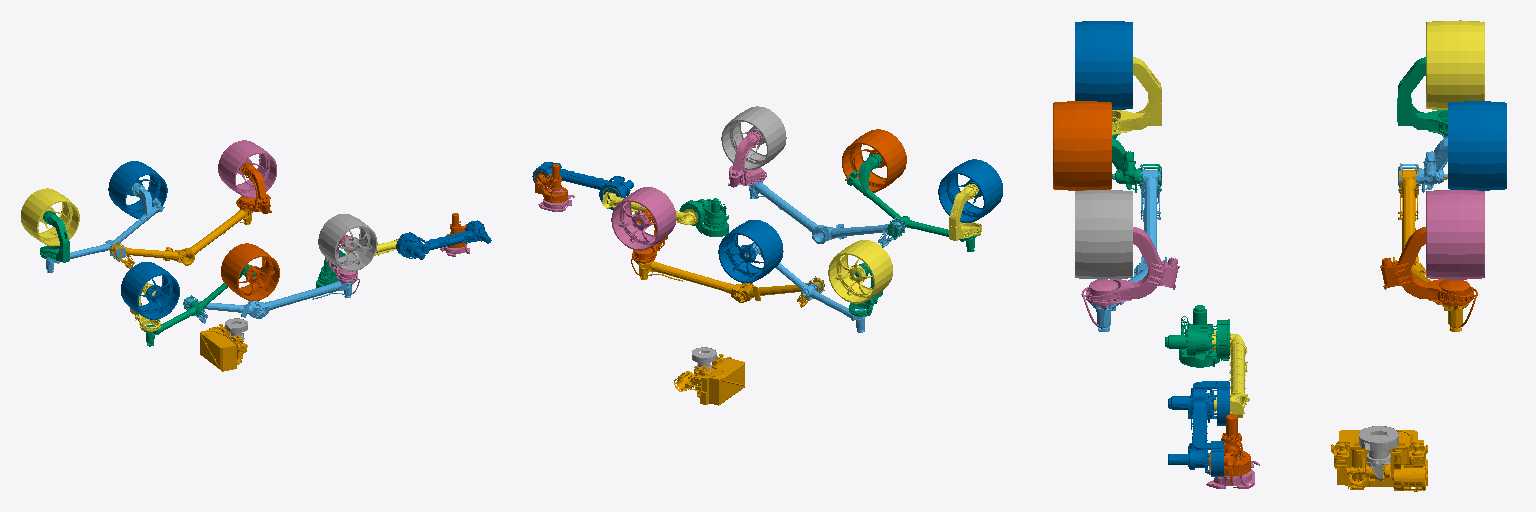
URDF robot description (Perseverance):
<?xml version="1.0" ?>
<!-- This file was generated automatically. [2025_06_02_09_32_47] -->
<!-- [Tool url: [email redacted]:CR/rst.git, branch: dev/working, commit_hash: e5cacbdc, commit_time: 2025-05-23 16:18:02 -0700] -->

<robot name="Perseverance">
	
	<link name="Body_Chassis">
		<inertial>
			<origin xyz="-0.09838567108 0.07208482438 -1.042635484" rpy="0 -0 0"/>
			<mass value="683.3519"/>
			<inertia ixx="128.4" ixy="300" ixz="89.22" iyy="820.4" iyz="-30" izz="900"/>
		</inertial>
		<visual name="VisGeom_CHASSIS">
			<origin xyz="0.09002 0 -1.13338" rpy="0 -0 0"/>
			<geometry>
				<mesh filename="./meshes/CHASSIS.obj" scale="1 1 1"/>
			</geometry>
		</visual>
	</link>
	<link name="Body_RockerLeft">
		<inertial>
			<origin xyz="-0.05083 -0.044965 0.049617" rpy="0 -0 0"/>
			<mass value="20.8469"/>
			<inertia ixx="0.2" ixy="0.2" ixz="0.2" iyy="36.0" iyz="0.2" izz="4.0"/>
		</inertial>
		<visual name="VisGeom_Left_Rocker">
			<origin xyz="-0.214 0.79959 -0.2405" rpy="0 -0 0"/>
			<geometry>
				<mesh filename="./meshes/Left_Rocker.obj" scale="1 1 1"/>
			</geometry>
		</visual>
	</link>
	<link name="Body_BogieLeft">
		<inertial>
			<origin xyz="0.199373 -0.09106 0.193321" rpy="0 -0 0"/>
			<mass value="17.1153"/>
			<inertia ixx="1.5" ixy="0" ixz="0" iyy="5.0" iyz="0" izz="1.5"/>
		</inertial>
		<visual name="VisGeom_Left_Bogie">
			<origin xyz="0.54 0.91959 -0.4705" rpy="0 -0 0"/>
			<geometry>
				<mesh filename="./meshes/Left_Bogie.obj" scale="1 1 1"/>
			</geometry>
		</visual>
	</link>
	<link name="Body_SteerLeftRear">
		<inertial>
			<origin xyz="-0.0004 0.0465 -0.2287" rpy="0 -0 0"/>
			<mass value="20.404"/>
			<inertia ixx="1.5" ixy="0" ixz="0" iyy="1.5" iyz="0" izz="1.5"/>
		</inertial>
		<visual name="VisGeom_Steer_LeftRear">
			<origin xyz="1.165 1.0625 -0.8705" rpy="0 -0 0"/>
			<geometry>
				<mesh filename="./meshes/Steer_LeftRear.obj" scale="1 1 1"/>
			</geometry>
		</visual>
	</link>
	<link name="Body_WheelLeftRear">
		<inertial>
			<origin xyz="0 -0.02695 3e-06" rpy="0 -0 0"/>
			<mass value="9.1239"/>
			<inertia ixx="1.5" ixy="0" ixz="0" iyy="0.5" iyz="0" izz="1.5"/>
		</inertial>
		<visual name="VisGeom_Wheel_LeftRear">
			<origin xyz="1.165 1.0625 -0.8705" rpy="0 -0 0"/>
			<geometry>
				<mesh filename="./meshes/Wheel_LeftRear.obj" scale="1 1 1"/>
			</geometry>
		</visual>
		<collision group="other">
			<origin xyz="1.165 1.0625 -0.8705" rpy="0 -0 0"/>
		   <geometry>
				<mesh filename="./meshes/Wheel_LeftRear.obj" scale="1 1 1"/>
		   </geometry>
		</collision>
	</link>
	<link name="Body_WheelLeftMiddle">
		<inertial>
			<origin xyz="2e-05 -0.02687 0" rpy="0 -0 0"/>
			<mass value="9.1239"/>
			<inertia ixx="1.5" ixy="0" ixz="0" iyy="0.5" iyz="0" izz="1.5"/>
		</inertial>
		<visual name="VisGeom_Wheel_LeftMiddle">
			<origin xyz="0.09002 1.1845 -0.8705" rpy="0 -0 0"/>
			<geometry>
				<mesh filename="./meshes/Wheel_LeftMiddle.obj" scale="1 1 1"/>
			</geometry>
		</visual>
		<collision group="other">
			<origin xyz="0.09002 1.1845 -0.8705" rpy="0 -0 0"/>
		   <geometry>
				<mesh filename="./meshes/Wheel_LeftMiddle.obj" scale="1 1 1"/>
		   </geometry>
		</collision>
	</link>
	<link name="Body_SteerLeftFront">
		<inertial>
			<origin xyz="-0.0004 0.0418 -0.2292" rpy="0 -0 0"/>
			<mass value="20.2884"/>
			<inertia ixx="1.5" ixy="0" ixz="0" iyy="1.5" iyz="0" izz="1.5"/>
		</inertial>
		<visual name="VisGeom_Steer_LeftFront">
			<origin xyz="-1.095 1.0625 -0.8705" rpy="0 -0 0"/>
			<geometry>
				<mesh filename="./meshes/Steer_LeftFront.obj" scale="1 1 1"/>
			</geometry>
		</visual>
	</link>
	<link name="Body_WheelLeftFront">
		<inertial>
			<origin xyz="0 -0.02695 4e-06" rpy="0 -0 0"/>
			<mass value="9.1239"/>
			<inertia ixx="1.5" ixy="0" ixz="0" iyy="0.5" iyz="0" izz="1.5"/>
		</inertial>
		<visual name="VisGeom_Wheel_LeftFront">
			<origin xyz="-1.095 1.0625 -0.8705" rpy="0 -0 0"/>
			<geometry>
				<mesh filename="./meshes/Wheel_LeftFront.obj" scale="1 1 1"/>
			</geometry>
		</visual>
		<collision group="other">
			<origin xyz="-1.095 1.0625 -0.8705" rpy="0 -0 0"/>
		   <geometry>
				<mesh filename="./meshes/Wheel_LeftFront.obj" scale="1 1 1"/>
		   </geometry>
		</collision>

	</link>
	<link name="Body_RockerRight">
		<inertial>
			<origin xyz="-0.05083 0.044965 0.049617" rpy="0 -0 0"/>
			<mass value="20.8469"/>
			<inertia ixx="1.5" ixy="0" ixz="0" iyy="36" iyz="0" izz="1.5"/>
		</inertial>
		<visual name="VisGeom_Right_Rocker">
			<origin xyz="-0.214 -0.79959 -0.2405" rpy="0 -0 0"/>
			<geometry>
				<mesh filename="./meshes/Right_Rocker.obj" scale="1 1 1"/>
			</geometry>
		</visual>
	</link>
	<link name="Body_BogieRight">
		<inertial>
			<origin xyz="0.199373 0.09106 0.193321" rpy="0 -0 0"/>
			<mass value="17.1153"/>
			<inertia ixx="1.5" ixy="0" ixz="0" iyy="5.0" iyz="0" izz="1.5"/>
		</inertial>
		<visual name="VisGeom_Right_Bogie">
			<origin xyz="0.54 -0.91959 -0.4705" rpy="0 -0 0"/>
			<geometry>
				<mesh filename="./meshes/Right_Bogie.obj" scale="1 1 1"/>
			</geometry>
		</visual>
	</link>
	<link name="Body_SteerRightRear">
		<inertial>
			<origin xyz="-0.0004 -0.0465 -0.2287" rpy="0 -0 0"/>
			<mass value="20.404"/>
			<inertia ixx="1.5" ixy="0" ixz="0" iyy="1.5" iyz="0" izz="1.5"/>
		</inertial>
		<visual name="VisGeom_Steer_RightRear">
			<origin xyz="1.165 -1.0625 -0.8705" rpy="0 -0 0"/>
			<geometry>
				<mesh filename="./meshes/Steer_RightRear.obj" scale="1 1 1"/>
			</geometry>
		</visual>
	</link>
	<link name="Body_WheelRightRear">
		<inertial>
			<origin xyz="0 0.02695 3e-06" rpy="0 -0 0"/>
			<mass value="9.1239"/>
			<inertia ixx="1.5" ixy="0" ixz="0" iyy="0.5" iyz="0" izz="1.5"/>
		</inertial>
		<visual name="VisGeom_Wheel_RightRear">
			<origin xyz="1.165 -1.0625 -0.8705" rpy="0 -0 0"/>
			<geometry>
				<mesh filename="./meshes/Wheel_RightRear.obj" scale="1 1 1"/>
			</geometry>
		</visual>

		<collision group="other">
			<origin xyz="1.165 -1.0625 -0.8705" rpy="0 -0 0"/>
			<geometry>
				<mesh filename="./meshes/Wheel_RightRear.obj" scale="1 1 1"/>
		    </geometry>
		</collision>
	</link>
	<link name="Body_WheelRightMiddle">
		<inertial>
			<origin xyz="2e-05 0.02687 0" rpy="0 -0 0"/>
			<mass value="9.1239"/>
			<inertia ixx="1.5" ixy="0" ixz="0" iyy="0.5" iyz="0" izz="1.5"/>
		</inertial>
		<visual name="VisGeom_Wheel_RightMiddle">
			<origin xyz="0.09002 -1.1845 -0.8705" rpy="0 -0 0"/>
			<geometry>
				<mesh filename="./meshes/Wheel_RightMiddle.obj" scale="1 1 1"/>
			</geometry>
		</visual>
		
		<collision group="other">
			<origin xyz="0.09002 -1.1845 -0.8705" rpy="0 -0 0"/>
		   <geometry>
				<mesh filename="./meshes/Wheel_RightMiddle.obj" scale="1 1 1"/>
	           </geometry>
	    </collision>
	</link>
	<link name="Body_SteerRightFront">
		<inertial>
			<origin xyz="-0.0004 -0.0418 -0.2292" rpy="0 -0 0"/>
			<mass value="20.2884"/>
			<inertia ixx="1.5" ixy="0" ixz="0" iyy="1.5" iyz="0" izz="1.5"/>
		</inertial>
		<visual name="VisGeom_Steer_RightFront">
			<origin xyz="-1.095 -1.0625 -0.8705" rpy="0 -0 0"/>
			<geometry>
				<mesh filename="./meshes/Steer_RightFront.obj" scale="1 1 1"/>
			</geometry>
		</visual>
	</link>
	<link name="Body_WheelRightFront">
		<inertial>
			<origin xyz="0 0.02695 4e-06" rpy="0 -0 0"/>
			<mass value="9.1239"/>
			<inertia ixx="1.5" ixy="0" ixz="0" iyy="0.5" iyz="0" izz="1.5"/>
		</inertial>
		<visual name="VisGeom_Wheel_RightFront">
			<origin xyz="-1.095 -1.0625 -0.8705" rpy="0 -0 0"/>
			<geometry>
				<mesh filename="./meshes/Wheel_RightFront.obj" scale="1 1 1"/>
			</geometry>
		</visual>


		<collision group="other">
			<origin xyz="-1.095 -1.0625 -0.8705" rpy="0 -0 0"/>
		   <geometry>
				<mesh filename="./meshes/Wheel_RightFront.obj" scale="1 1 1"/>
		    </geometry>
	       </collision>
	</link>
	<link name="Body_RSM_AZ">
		<inertial>
			<origin xyz="-0.714017 -0.559028 0.78589" rpy="0 -0 0"/>
			<mass value="0.5"/>
			<inertia ixx="1.5" ixy="0" ixz="0" iyy="1.5" iyz="0" izz="1.5"/>
		</inertial>
		<visual name="VisGeom_RSM">
			<origin xyz="-0.714017 -0.559028 0.78589" rpy="0 -0 0"/>
			<geometry>
				<mesh filename="./meshes/RSM.obj" scale="1 1 1"/>
			</geometry>
		</visual>
	</link>
	<link name="Body_RSM_EL">
		<inertial>
			<origin xyz="-0.714017 -0.559028 0.78589" rpy="0 -0 0"/>
			<mass value="0.5"/>
			<inertia ixx="1.5" ixy="0" ixz="0" iyy="1.5" iyz="0" izz="1.5"/>
		</inertial>
		<visual name="VisGeom_RSM_HEAD">
			<origin xyz="-0.714017 -0.559028 0.78589" rpy="0 -0 0"/>
			<geometry>
				<mesh filename="./meshes/RSM_Head.obj" scale="1 1 1"/>
			</geometry>
		</visual>
	</link>
	<link name="Body_RA_Base">
		<inertial>
			<origin xyz="1.06056 -0.438176 0.112866" rpy="0 -0 0"/>
			<mass value="15.901471"/>
			<inertia ixx="1.5" ixy="0" ixz="0" iyy="1.5" iyz="0" izz="1.5"/>
		</inertial>
	</link>
	<link name="Body_RA_Link1">
		<inertial>
			<origin xyz="0.09057 0.001004 -0.006629" rpy="0 -0 0"/>
			<mass value="18.99472"/>
			<inertia ixx="1.5" ixy="0" ixz="0" iyy="1.5" iyz="0" izz="1.5"/>
		</inertial>
		<visual name="VisGeom_Arm_LINK_1">
			<origin xyz="-1.1756 0.4515 -0.3116" rpy="0 -0 0"/>
			<geometry>
				<mesh filename="./meshes/Arm_LINK_1.obj" scale="1 1 1"/>
			</geometry>
		</visual>
	</link>
	<link name="Body_RA_Link2">
		<inertial>
			<origin xyz="0.43094 0.130787 0" rpy="0 -0 0"/>
			<mass value="10.171646"/>
			<inertia ixx="1.0" ixy="0" ixz="0" iyy="1.0" iyz="0" izz="1.0"/>
		</inertial>
		<visual name="VisGeom_Arm_LINK_2">
			<origin xyz="-1.3416 0.4515 -0.3116" rpy="0 -0 0"/>
			<geometry>
				<mesh filename="./meshes/Arm_LINK_2.obj" scale="1 1 1"/>
			</geometry>
		</visual>
	</link>
	<link name="Body_RA_Link3">
		<inertial>
			<origin xyz="0.31247 0.013706 -0.000118" rpy="0 -0 0"/>
			<mass value="17.299854"/>
			<inertia ixx="1.5" ixy="0" ixz="0" iyy="1.5" iyz="0" izz="1.5"/>
		</inertial>
		<visual name="VisGeom_Arm_LINK_3">
			<origin xyz="-2.161 0.4515 -0.3116" rpy="0 -0 0"/>
			<geometry>
				<mesh filename="./meshes/Arm_LINK_3.obj" scale="1 1 1"/>
			</geometry>
		</visual>
	</link>
	<link name="Body_RA_Link4">
		<inertial>
			<origin xyz="-0.11788 0.150328 0.033101" rpy="0 -0 0"/>
			<mass value="7.0299"/>
			<inertia ixx="1.5" ixy="0" ixz="0" iyy="1.5" iyz="0" izz="1.5"/>
		</inertial>
		<visual name="VisGeom_Arm_LINK_4">
			<origin xyz="-2.9143 0.4515 -0.3116" rpy="0 -0 0"/>
			<geometry>
				<mesh filename="./meshes/Arm_LINK_4.obj" scale="1 1 1"/>
			</geometry>
		</visual>
	</link>
	<link name="Body_RA_Link5">
		<inertial>
			<origin xyz="-0.01953 -0.001248 -0.28477" rpy="0 -0 0"/>
			<mass value="52.897972"/>
			<inertia ixx="5.0" ixy="0" ixz="0" iyy="5.0" iyz="0" izz="5.0"/>
		</inertial>
		<visual name="VisGeom_Arm_LINK_5">
			<origin xyz="-2.7386 0.2724 -0.3116" rpy="0 -0 0"/>
			<geometry>
				<mesh filename="./meshes/Arm_LINK_5.obj" scale="1 1 1"/>
			</geometry>
		</visual>
	</link>
	<link name="Body_Turret">
		<inertial>
			<origin xyz="0 0 0" rpy="0 -0 0"/>
			<mass value="0.5"/>
			<inertia ixx="1.5" ixy="0" ixz="0" iyy="1.5" iyz="0" izz="1.5"/>
		</inertial>
		<visual name="VisGeom_Turret">
			<origin xyz="0 0 0" rpy="0 -0 0"/>
			<geometry>
				<mesh filename="./meshes/Turret.obj" scale="1 1 1"/>
			</geometry>
		</visual>
	</link>
	<joint name="LEFT_DIFFERENTIAL" type="revolute">
		<origin xyz="0.3 -0.73 -0.9" rpy="0 -0 0"/>
		<parent link="Body_Chassis"/>
		<child link="Body_RockerLeft"/>
		<axis xyz="0 1 0"/>
		<limit lower="0" upper="0.05" velocity="10" effort="10"/>
	</joint>
	<joint name="LEFT_BOGIE" type="continuous">
		<origin xyz="-0.754 -0.12 0.23" rpy="0 -0 0"/>
		<parent link="Body_RockerLeft"/>
		<child link="Body_BogieLeft"/>
		<axis xyz="0 1 0"/>
	</joint>
	<joint name="LR_STEER" type="continuous">
		<origin xyz="-0.625 -0.14291 0.4" rpy="0 -0 0"/>
		<parent link="Body_BogieLeft"/>
		<child link="Body_SteerLeftRear"/>
		<axis xyz="0 0 1"/>
	</joint>
	<joint name="LR_DRIVE" type="continuous">
		<origin xyz="0 0 0" rpy="0 -0 0"/>
		<parent link="Body_SteerLeftRear"/>
		<child link="Body_WheelLeftRear"/>
		<axis xyz="0 -1 0"/>
	</joint>
	<joint name="LM_DRIVE" type="continuous">
		<origin xyz="0.44998 -0.26491 0.4" rpy="0 -0 0"/>
		<parent link="Body_BogieLeft"/>
		<child link="Body_WheelLeftMiddle"/>
		<axis xyz="0 -1 0"/>
	</joint>
	<joint name="LF_STEER" type="continuous">
		<origin xyz="0.881 -0.26291 0.63" rpy="0 -0 0"/>
		<parent link="Body_RockerLeft"/>
		<child link="Body_SteerLeftFront"/>
		<axis xyz="0 0 1"/>
	</joint>
	<joint name="LF_DRIVE" type="continuous">
		<origin xyz="0 0 0" rpy="0 -0 0"/>
		<parent link="Body_SteerLeftFront"/>
		<child link="Body_WheelLeftFront"/>
		<axis xyz="0 -1 0"/>
	</joint>
	<joint name="RIGHT_DIFFERENTIAL" type="revolute">
		<origin xyz="0.3 0.73 -0.9" rpy="0 -0 0"/>
		<parent link="Body_Chassis"/>
		<child link="Body_RockerRight"/>
		<axis xyz="0 1 0"/>
		<limit lower="0" upper="0.05" velocity="10" effort="10"/>
	</joint>
	<joint name="RIGHT_BOGIE" type="continuous">
		<origin xyz="-0.754 0.12 0.23" rpy="0 -0 0"/>
		<parent link="Body_RockerRight"/>
		<child link="Body_BogieRight"/>
		<axis xyz="0 1 0"/>
	</joint>
	<joint name="RR_STEER" type="continuous">
		<origin xyz="-0.625 0.14291 0.4" rpy="0 -0 0"/>
		<parent link="Body_BogieRight"/>
		<child link="Body_SteerRightRear"/>
		<axis xyz="0 0 1"/>
	</joint>
	<joint name="RR_DRIVE" type="continuous">
		<origin xyz="0 0 0" rpy="0 -0 0"/>
		<parent link="Body_SteerRightRear"/>
		<child link="Body_WheelRightRear"/>
		<axis xyz="0 -1 0"/>
	</joint>
	<joint name="RM_DRIVE" type="continuous">
		<origin xyz="0.44998 0.26491 0.4" rpy="0 -0 0"/>
		<parent link="Body_BogieRight"/>
		<child link="Body_WheelRightMiddle"/>
		<axis xyz="0 -1 0"/>
	</joint>
	<joint name="RF_STEER" type="continuous">
		<origin xyz="0.881 0.26291 0.63" rpy="0 -0 0"/>
		<parent link="Body_RockerRight"/>
		<child link="Body_SteerRightFront"/>
		<axis xyz="0 0 1"/>
	</joint>
	<joint name="RF_DRIVE" type="continuous">
		<origin xyz="0 0 0" rpy="0 -0 0"/>
		<parent link="Body_SteerRightFront"/>
		<child link="Body_WheelRightFront"/>
		<axis xyz="0 -1 0"/>
	</joint>
	<joint name="RSM_AZ_ENC" type="revolute">
		<origin xyz="0.804037 0.559028 -1.91927" rpy="0 -0 3.124139361"/>
		<parent link="Body_Chassis"/>
		<child link="Body_RSM_AZ"/>
		<axis xyz="0 0 1"/>
		<limit lower="0" upper="6.318091892" velocity="10" effort="10"/>
	</joint>
	<joint name="RSM_EL_ENC" type="revolute">
		<origin xyz="0 0 0" rpy="3.141592654 -1.553343034 3.141592654"/>
		<parent link="Body_RSM_AZ"/>
		<child link="Body_RSM_EL"/>
		<axis xyz="0 1 0"/>
		<limit lower="0" upper="3.176499239" velocity="10" effort="10"/>
	</joint>
	<joint name="JointRobotArmBase" type="fixed">
		<origin xyz="0.09002 0 -1.13338" rpy="0 -0 0"/>
		<parent link="Body_Chassis"/>
		<child link="Body_RA_Base"/>
	</joint>
	<joint name="JOINT1_ENC" type="revolute">
		<origin xyz="1.1756 -0.4515 0.3116" rpy="0 -0 0"/>
		<parent link="Body_RA_Base"/>
		<child link="Body_RA_Link1"/>
		<axis xyz="0 0 1"/>
		<limit lower="-3.145" upper="1.592" velocity="10" effort="10"/>
	</joint>
	<joint name="JOINT2_ENC" type="revolute">
		<origin xyz="0.166 0 0" rpy="0 -0 0"/>
		<parent link="Body_RA_Link1"/>
		<child link="Body_RA_Link2"/>
		<axis xyz="0 -1 0"/>
		<limit lower="-3.267" upper="0.126" velocity="10" effort="10"/>
	</joint>
	<joint name="JOINT3_ENC" type="revolute">
		<origin xyz="0.8194 0 0" rpy="0 -0 0"/>
		<parent link="Body_RA_Link2"/>
		<child link="Body_RA_Link3"/>
		<axis xyz="0 -1 0"/>
		<limit lower="-2.866" upper="2.866" velocity="10" effort="10"/>
	</joint>
	<joint name="JOINT4_ENC" type="revolute">
		<origin xyz="0.7533 0 0" rpy="0 -0 0"/>
		<parent link="Body_RA_Link3"/>
		<child link="Body_RA_Link4"/>
		<axis xyz="0 -1 0"/>
		<limit lower="-0.178" upper="3.669" velocity="10" effort="10"/>
	</joint>
	<joint name="JOINT5_ENC" type="revolute">
		<origin xyz="-0.1757 0.1791 0" rpy="0 -0 0"/>
		<parent link="Body_RA_Link4"/>
		<child link="Body_RA_Link5"/>
		<axis xyz="0 0 1"/>
		<limit lower="-0.353" upper="6.636" velocity="10" effort="10" />
	</joint>
	<joint name="JointTurret" type="fixed">
		<origin xyz="-2.7386 0.2724 -0.3116" rpy="0 -0 0"/>
		<parent link="Body_RA_Link5"/>
		<child link="Body_Turret"/>
	</joint>
</robot>

--- Render facts (derived) ---
Views: 3 orthographic renders of the robot side by side, from view 1: azimuth 30°, elevation 25°; view 2: azimuth 150°, elevation 25°; view 3: azimuth 270°, elevation 25°.
Robot: Perseverance — 24 links, 23 joints (9 revolute, 12 continuous, 2 fixed); root link Body_Chassis; default pose: all joints at 0.
Visible links, largest first — view 1: Body_WheelLeftFront, Body_WheelLeftRear, Body_WheelLeftMiddle, Body_WheelRightRear, Body_WheelRightFront, Body_WheelRightMiddle, Body_RockerLeft, Body_RockerRight, Body_RSM_EL, Body_RA_Link3, Body_BogieRight, Body_SteerRightFront (+2 smaller); view 2: Body_WheelRightFront, Body_WheelRightMiddle, Body_WheelRightRear, Body_WheelLeftRear, Body_WheelLeftFront, Body_WheelLeftMiddle, Body_RSM_EL, Body_RockerRight, Body_RockerLeft, Body_BogieLeft, Body_RA_Link3, Body_RA_Link1 (+6 smaller); view 3: Body_WheelRightFront, Body_WheelLeftMiddle, Body_WheelRightMiddle, Body_WheelLeftFront, Body_WheelRightRear, Body_WheelLeftRear, Body_RSM_EL, Body_RA_Link3, Body_SteerLeftFront, Body_SteerRightFront, Body_RA_Link1, Body_RockerLeft (+9 smaller).
Boxes of the visible links, bbox=[...] form: Body_WheelLeftFront: bbox=[318, 214, 377, 271]; Body_WheelLeftRear: bbox=[121, 262, 179, 319]; Body_WheelLeftMiddle: bbox=[221, 243, 279, 300]; Body_WheelRightRear: bbox=[21, 188, 79, 246]; Body_WheelRightFront: bbox=[218, 140, 276, 197]; Body_WheelRightMiddle: bbox=[108, 161, 167, 218]; Body_RockerLeft: bbox=[184, 281, 354, 323]; Body_RockerRight: bbox=[106, 208, 252, 268]; Body_RSM_EL: bbox=[200, 324, 247, 371]; Body_RA_Link3: bbox=[396, 220, 491, 259]; Body_BogieRight: bbox=[44, 183, 164, 272]; Body_SteerRightFront: bbox=[236, 162, 271, 213]; Body_WheelRightFront: bbox=[611, 187, 676, 250]; Body_WheelRightMiddle: bbox=[718, 220, 783, 283]; Body_WheelRightRear: bbox=[828, 240, 892, 303]; Body_WheelLeftRear: bbox=[938, 159, 1002, 222]; Body_WheelLeftFront: bbox=[721, 106, 786, 169]; Body_WheelLeftMiddle: bbox=[842, 129, 906, 192]; Body_RSM_EL: bbox=[674, 354, 744, 405]; Body_RockerRight: bbox=[635, 261, 823, 307]; Body_RockerLeft: bbox=[748, 181, 909, 247]; Body_BogieLeft: bbox=[845, 154, 977, 251]; Body_RA_Link3: bbox=[532, 162, 633, 209]; Body_RA_Link1: bbox=[679, 198, 728, 236]; Body_WheelRightFront: bbox=[1426, 190, 1484, 279]; Body_WheelLeftMiddle: bbox=[1053, 101, 1111, 190]; Body_WheelRightMiddle: bbox=[1448, 101, 1506, 190]; Body_WheelLeftFront: bbox=[1075, 190, 1132, 279]; Body_WheelRightRear: bbox=[1426, 20, 1484, 109]; Body_WheelLeftRear: bbox=[1075, 21, 1132, 109]; Body_RSM_EL: bbox=[1331, 430, 1427, 491]; Body_RA_Link3: bbox=[1168, 381, 1229, 476]; Body_SteerLeftFront: bbox=[1081, 227, 1179, 327]; Body_SteerRightFront: bbox=[1380, 227, 1477, 327]; Body_RA_Link1: bbox=[1165, 305, 1229, 367]; Body_RockerLeft: bbox=[1090, 164, 1166, 331].
Size in the robot's own frame: 4.43 by 2.56 by 2.07 metres.
21 mesh visuals loaded from 23 distinct referenced files (21 OBJ); not drawn: 2 (reference not matched to a file when rendering).
